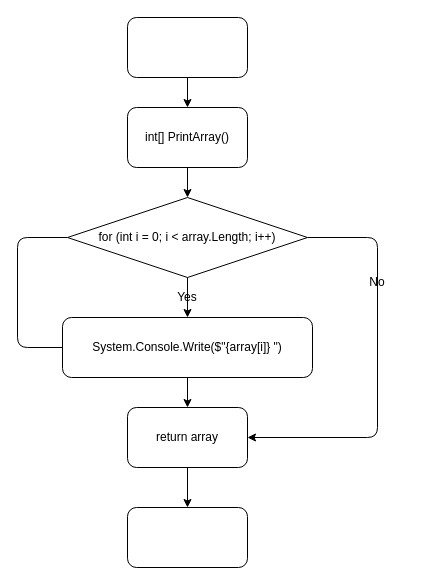
The diagram is 425 pixels wide and 585 high, and some of its shapes have lost their labels. Each missing label, with the centre of its shape:
exit: the point at 187,537
start: the point at 187,47
